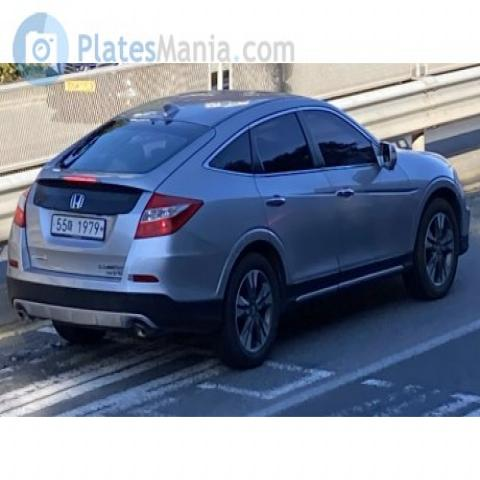LP: (40, 209, 116, 252)
